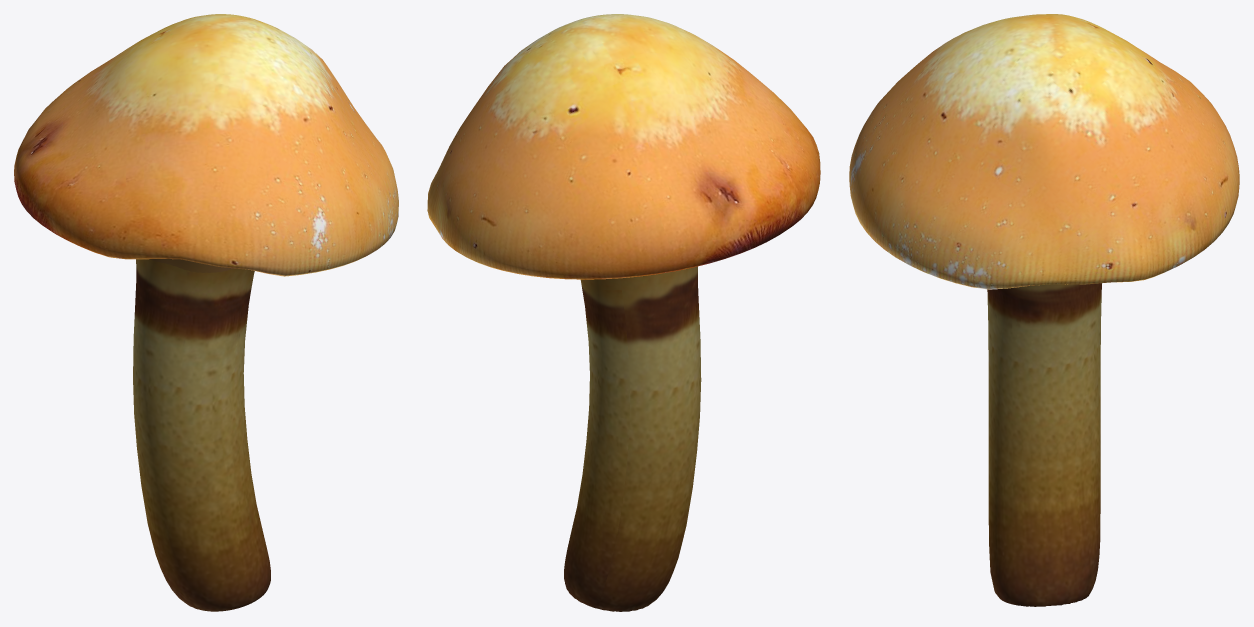
Rendered from SENE_17.fbx.
The picture shows the model from 3 angles, left to right: view 1: azimuth 30°, elevation 25°; view 2: azimuth 150°, elevation 25°; view 3: azimuth 270°, elevation 25°; orthographic projection.
Parts seen in each view (by area): view 1: SENE_17; view 2: SENE_17; view 3: SENE_17.
Boxes of the visible parts, <box> form: SENE_17: <box>14,14,398,611</box>; SENE_17: <box>427,14,820,611</box>; SENE_17: <box>849,14,1239,606</box>.
Size of the model in its own units: 39.6 by 64.64 by 39.42.
Materials: 1 (1 with a texture image).
